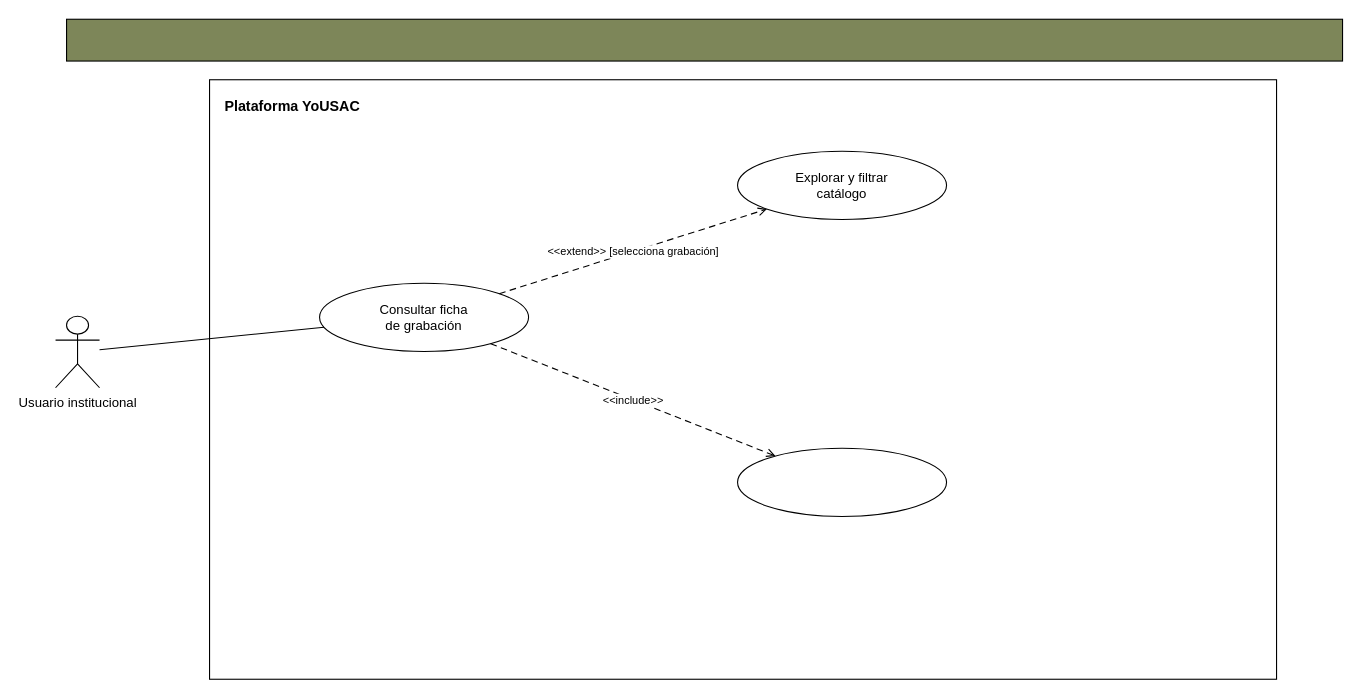
Image size: 1362x699. Some labels were removed from this diagram. Here are the shapes that lost their labels. From the top down, the centre of each, then its label:
At (704,39): "Plataforma YoUSAC — CU-CA-02 — Consultar ficha de grabación".
At (841,481): "Mostrar ficha técnica".
